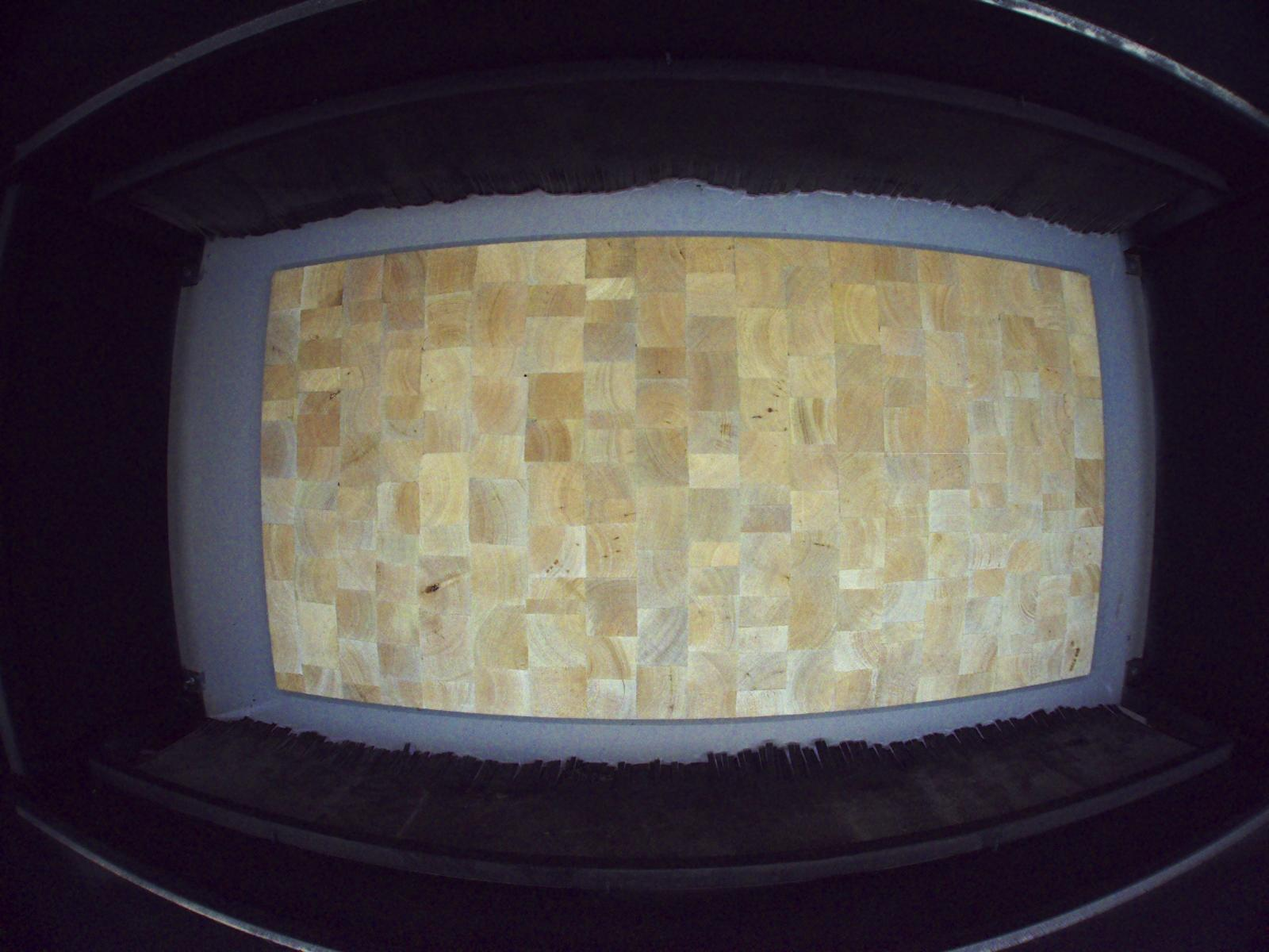nudillo: (423, 570, 471, 598)
